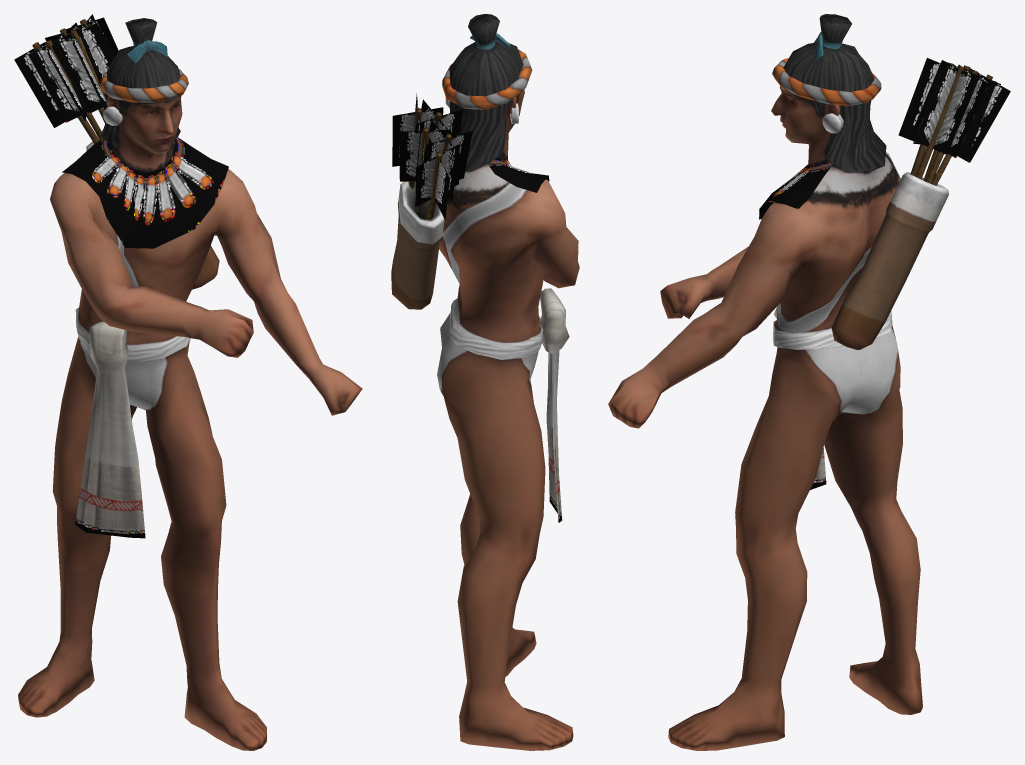
File: body-base.glb
3 views of the same model, side by side, from view 1: azimuth 30°, elevation 25°; view 2: azimuth 150°, elevation 25°; view 3: azimuth 270°, elevation 25° (orthographic). The views are drawn at different scales.
Size of the model in its own units: 0.731 by 2.14 by 1.11.
Materials: 2 (2 with a texture image).
